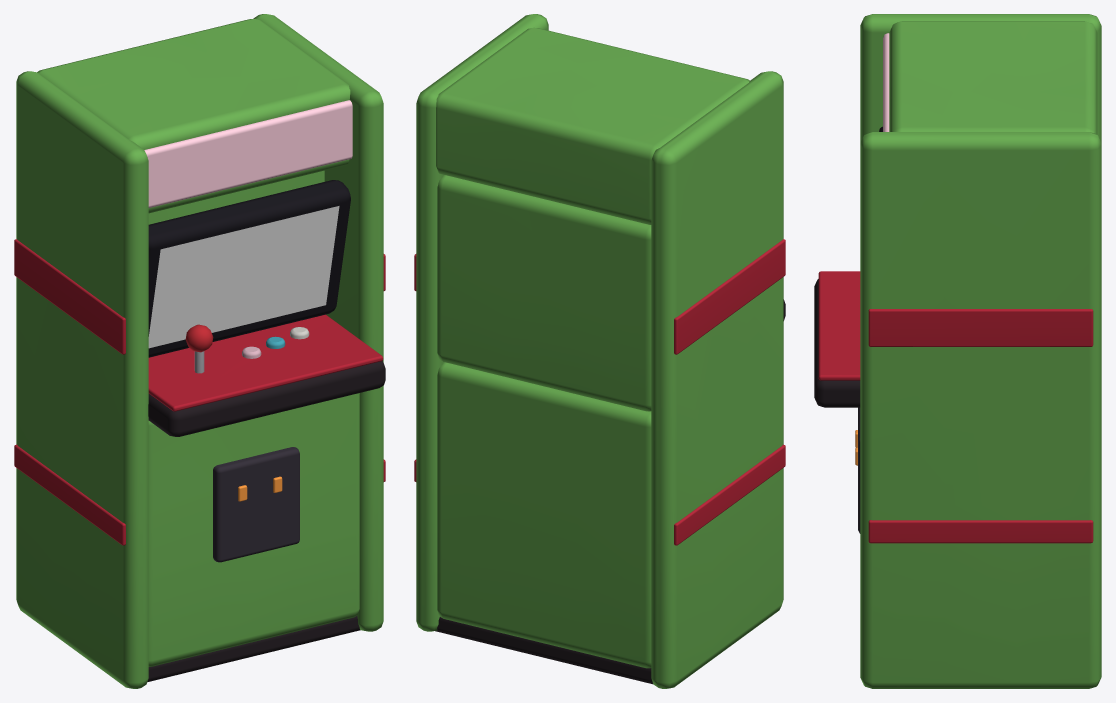
File: furn_cab_stack.glb
The picture shows the model from 3 angles, left to right: view 1: azimuth 30°, elevation 25°; view 2: azimuth 150°, elevation 25°; view 3: azimuth 270°, elevation 25°; orthographic projection. The views are drawn at different scales.
Parts seen in each view (by area): view 1: furn_cab_stack_main, furn_cab_stack_screen, furn_cab_stack_glow; view 2: furn_cab_stack_main; view 3: furn_cab_stack_main, furn_cab_stack_glow.
Part boxes in pixels (bbox=[...]): furn_cab_stack_main: bbox=[14, 14, 385, 688]; furn_cab_stack_screen: bbox=[148, 206, 339, 348]; furn_cab_stack_glow: bbox=[144, 100, 352, 501]; furn_cab_stack_main: bbox=[414, 14, 785, 688]; furn_cab_stack_main: bbox=[814, 14, 1101, 688]; furn_cab_stack_glow: bbox=[855, 33, 889, 465].
Bounding box in the file's own units: 0.752 × 1.47 × 0.69.
